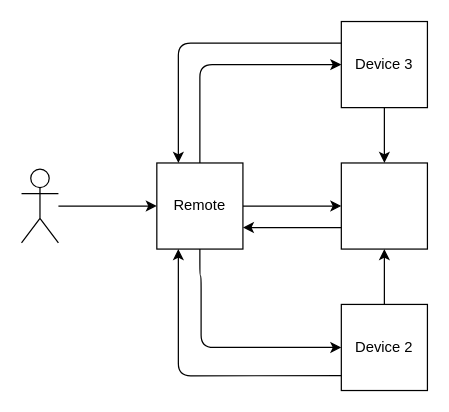
The diagram is 449 pixels wide and 412 high, and some of its shapes have lost their labels. Each missing label, with the centre of its shape:
"Actor" goes at [39,205].
"TV (D1)" goes at [383,205].
